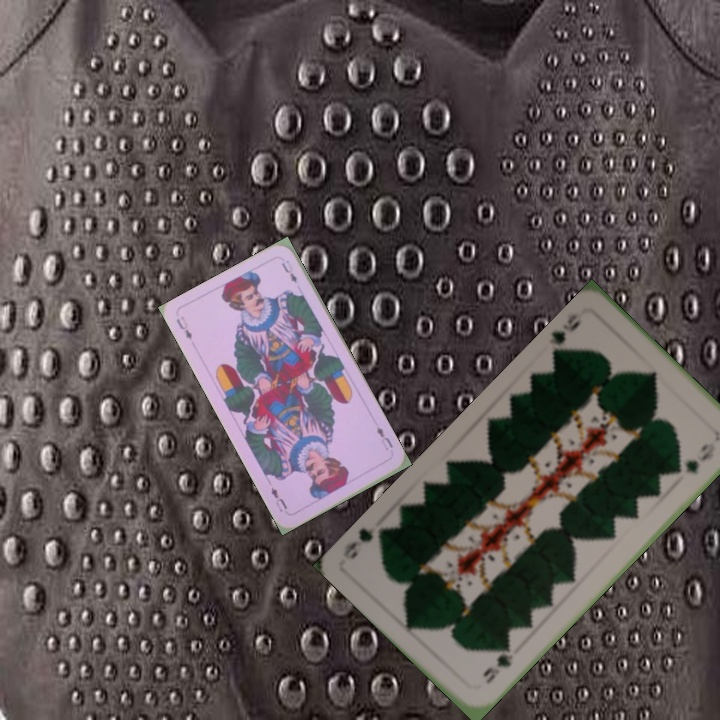EU: (373, 422, 396, 453), (172, 312, 195, 342)
G9: (545, 309, 584, 359), (478, 640, 516, 687)
